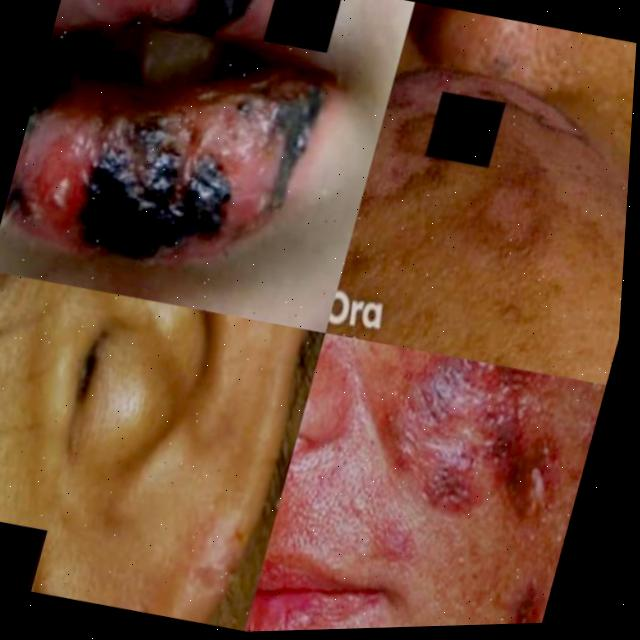lupus-detected: (0, 0, 381, 335), (320, 0, 639, 393), (330, 337, 608, 586), (12, 420, 291, 638), (276, 328, 442, 532), (462, 497, 572, 625), (580, 37, 637, 174)
